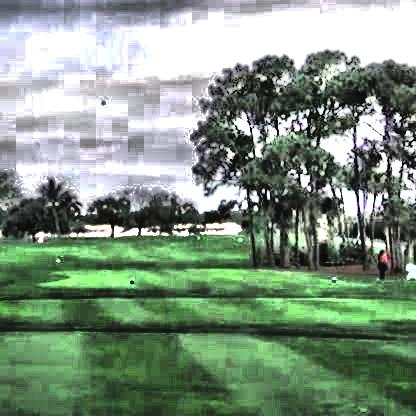golfball: (99, 98, 104, 103)
